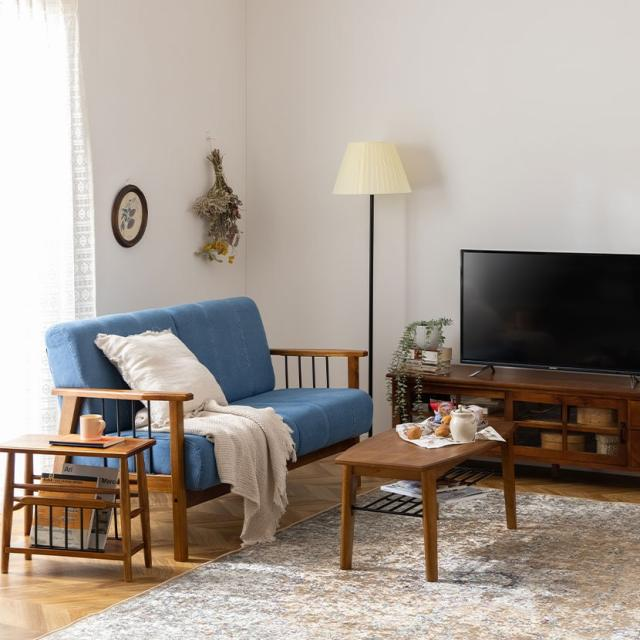vintage desk: (336, 411, 519, 582)
vintage sofa: (41, 294, 337, 562)
